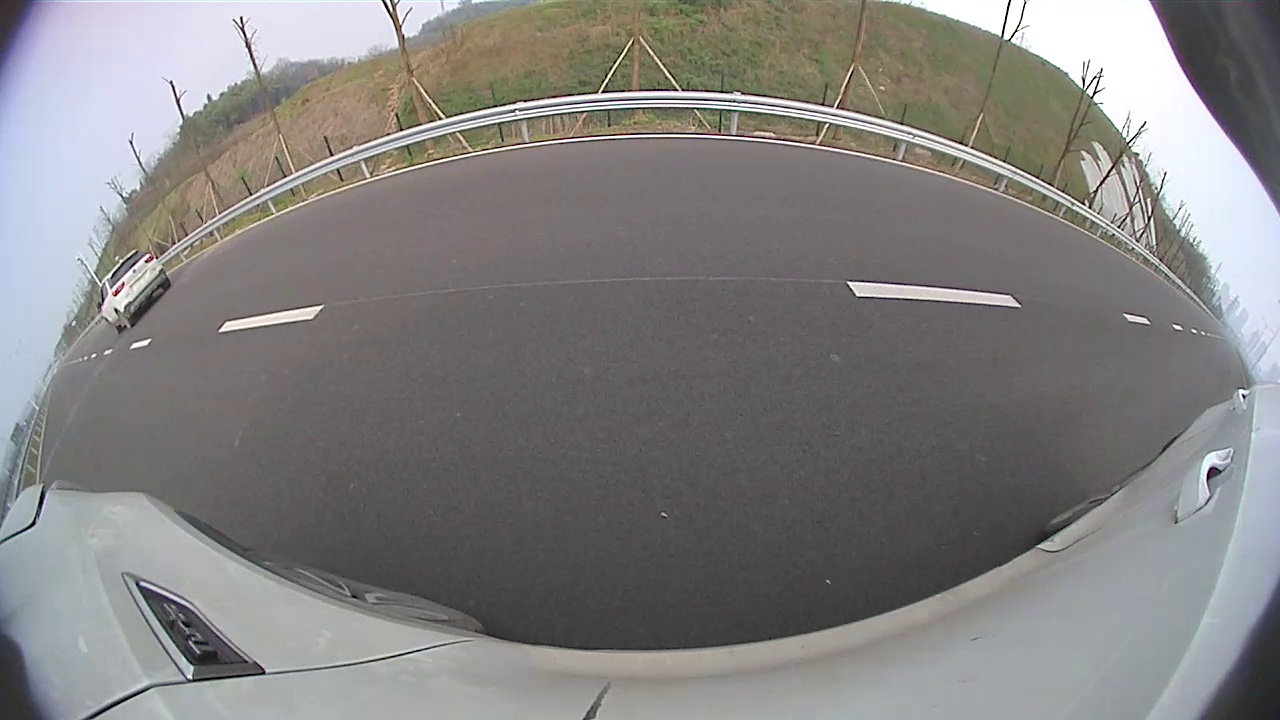car: (99, 248, 171, 334)
rear: (115, 309, 133, 330)
